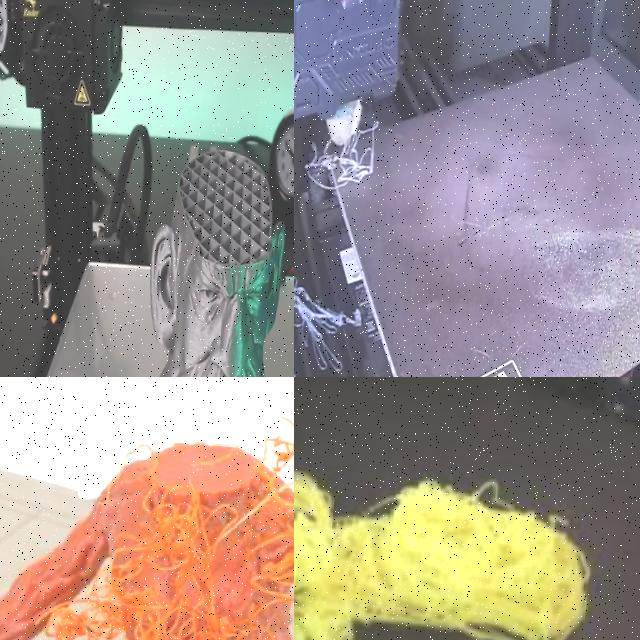spaghetti: (0, 418, 294, 640), (294, 472, 592, 640), (294, 268, 382, 377), (294, 120, 404, 199)
